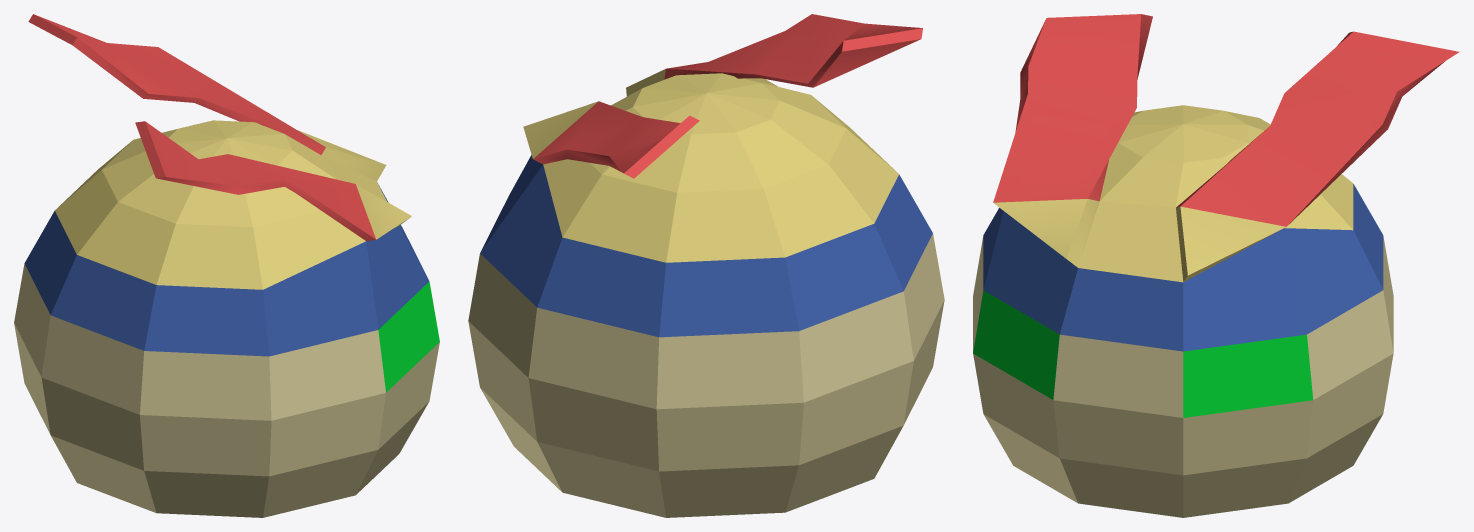
Rendered from RobotyChanSmallhorn.fbx.
3 renders of one model, left to right at view 1: azimuth 30°, elevation 25°; view 2: azimuth 150°, elevation 25°; view 3: azimuth 270°, elevation 25°, orthographic. The views are drawn at different scales.
Visible parts, largest first — view 1: pSphere1; view 2: pSphere1; view 3: pSphere1.
Boxes of the visible parts, x1=… form: pSphere1: x1=14, y1=14, x2=439, y2=517; pSphere1: x1=468, y1=14, x2=944, y2=517; pSphere1: x1=973, y1=14, x2=1459, y2=517.
Bounding box in the file's own units: 10 × 9.41 × 11.01.
